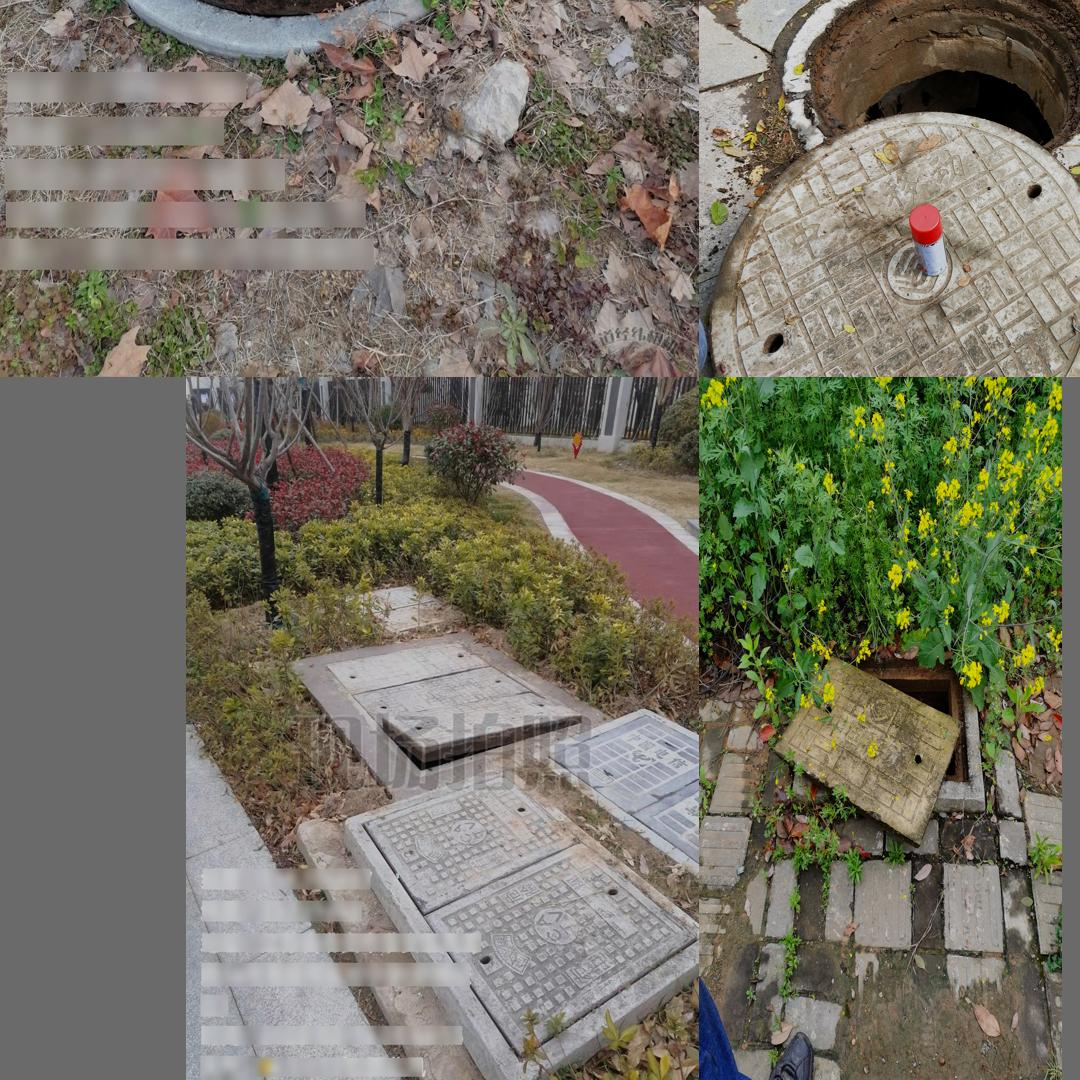good: (342, 764, 699, 1080), (534, 708, 699, 877)
uncovered: (712, 0, 1080, 377), (773, 642, 985, 844), (321, 637, 587, 777), (73, 0, 518, 54)
